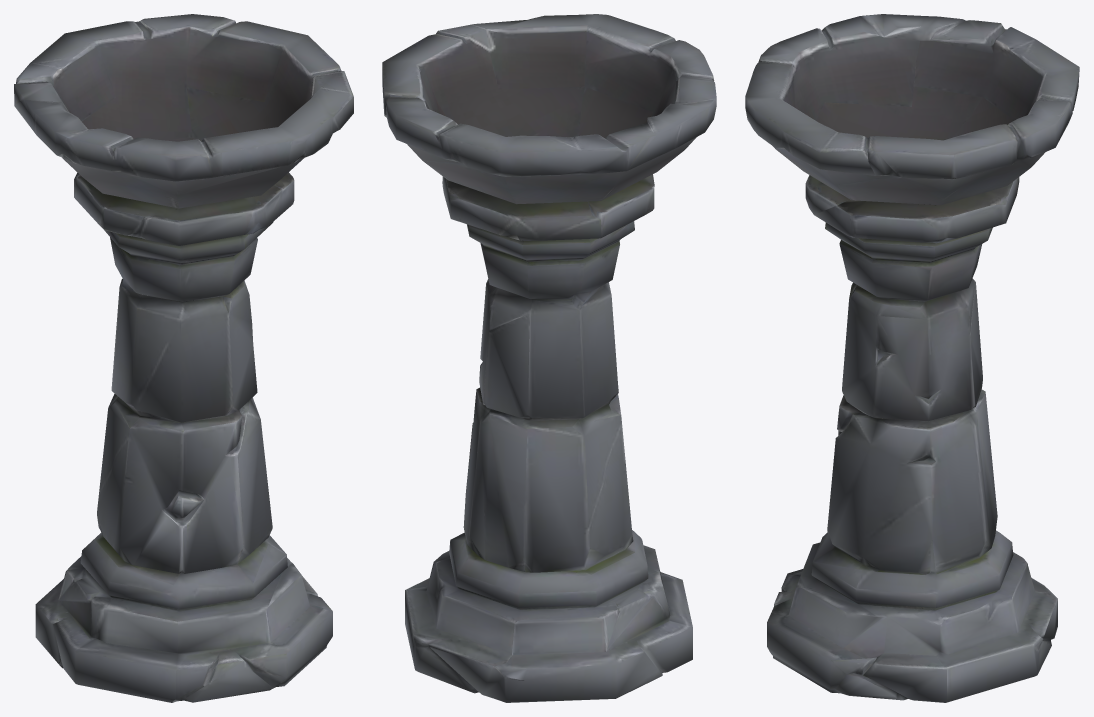
File: yumi_brazier_stand.glb
The picture shows the model from 3 angles, left to right: view 1: azimuth 30°, elevation 25°; view 2: azimuth 150°, elevation 25°; view 3: azimuth 270°, elevation 25°; orthographic projection.
Visible parts, largest first — view 1: tripo_node_6b4d01f9-ad48-4719-8ca1-b532f61f94f6; view 2: tripo_node_6b4d01f9-ad48-4719-8ca1-b532f61f94f6; view 3: tripo_node_6b4d01f9-ad48-4719-8ca1-b532f61f94f6.
Part boxes in pixels (x1,y1,x2,y2): tripo_node_6b4d01f9-ad48-4719-8ca1-b532f61f94f6: [14, 14, 353, 702]; tripo_node_6b4d01f9-ad48-4719-8ca1-b532f61f94f6: [382, 14, 716, 702]; tripo_node_6b4d01f9-ad48-4719-8ca1-b532f61f94f6: [745, 14, 1079, 702].
Bounding box in the file's own units: 0.7047 × 1.3 × 0.7047.
Materials: 1 (1 with a texture image).
